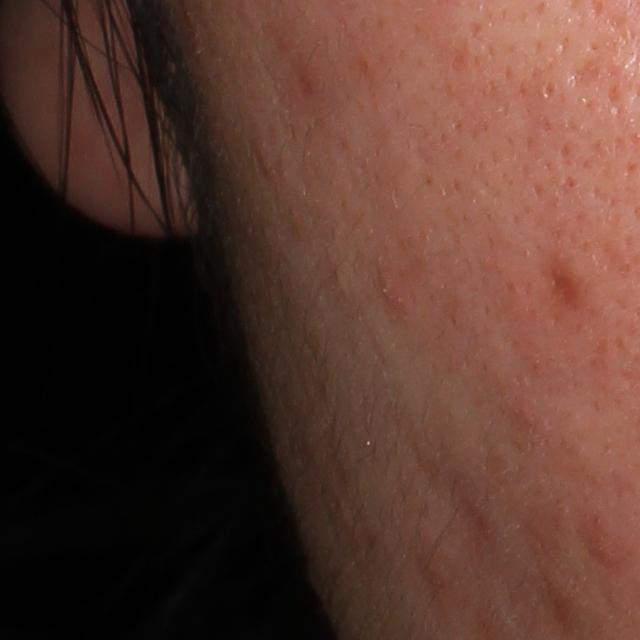atrophic_scar: (537, 257, 584, 313), (564, 57, 606, 91)
papule: (582, 519, 636, 567), (373, 268, 409, 313)
